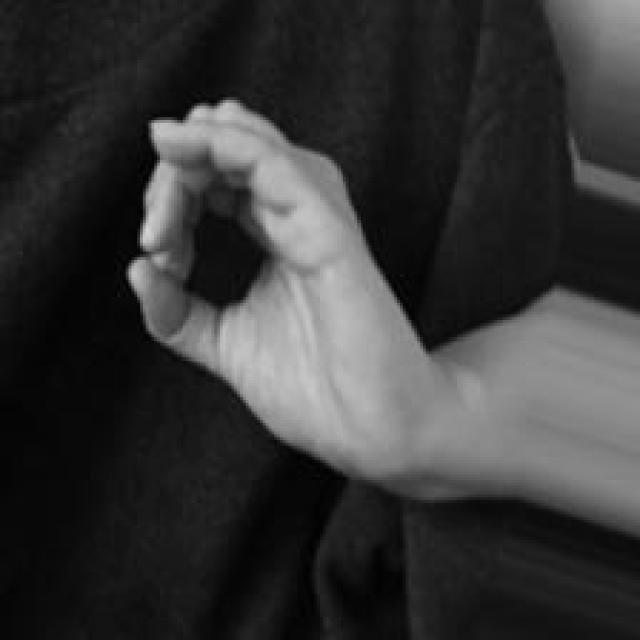O: (122, 93, 446, 498)
